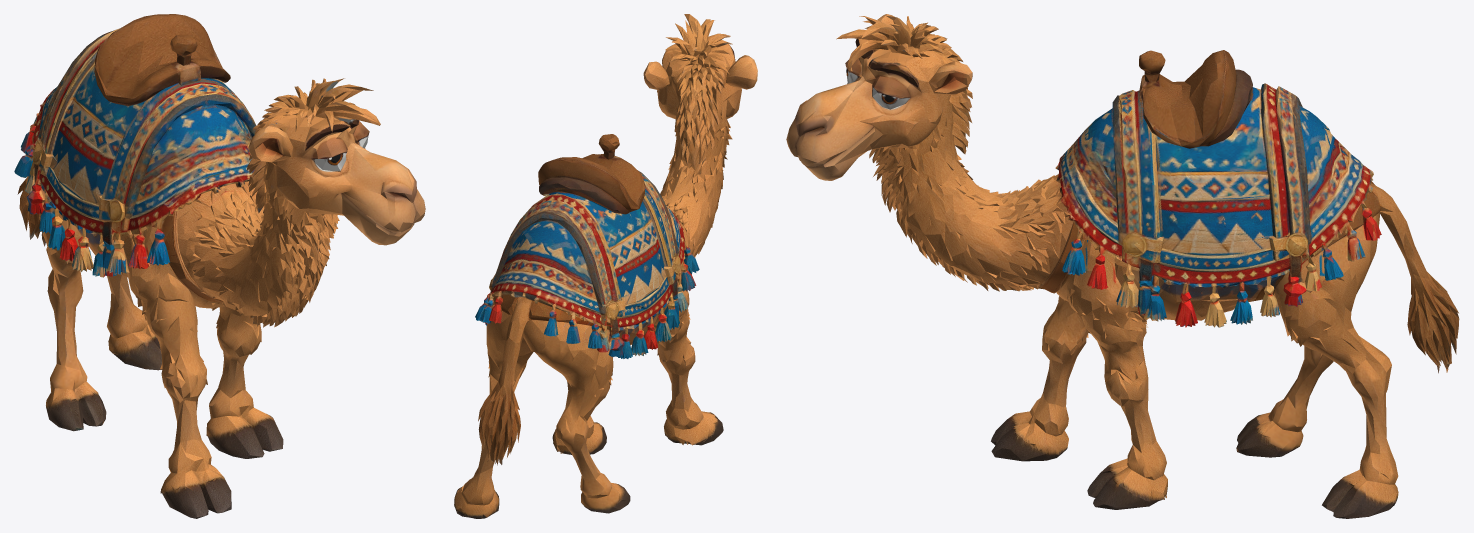
3 views of the same model, side by side, from view 1: azimuth 30°, elevation 25°; view 2: azimuth 150°, elevation 25°; view 3: azimuth 270°, elevation 25° (orthographic). The views are drawn at different scales.
Visible parts, largest first — view 1: Mesh_0; view 2: Mesh_0; view 3: Mesh_0.
Boxes of the visible parts, x1,y1,x2,y2 form: Mesh_0: (14,14,425,518); Mesh_0: (454,14,757,518); Mesh_0: (786,14,1459,518).
Bounding box in the file's own units: 0.6312 × 1.45 × 1.9.
Materials: 1 (1 with a texture image).
